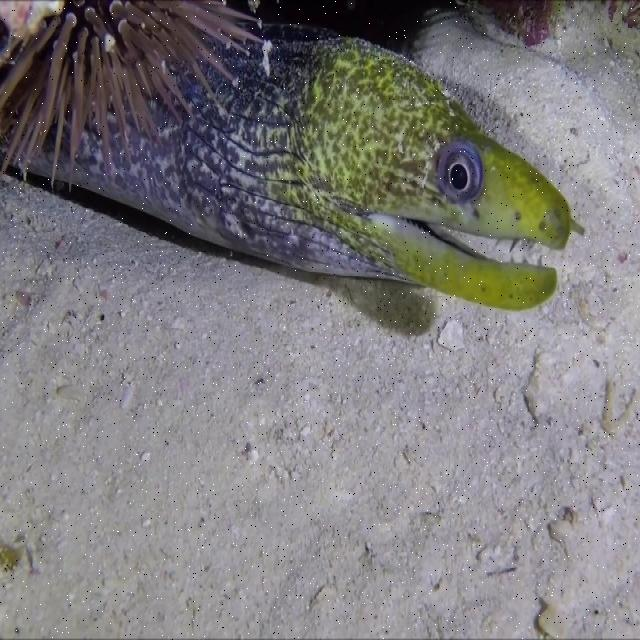fish: (15, 21, 586, 313)
reefs: (0, 0, 262, 172)
